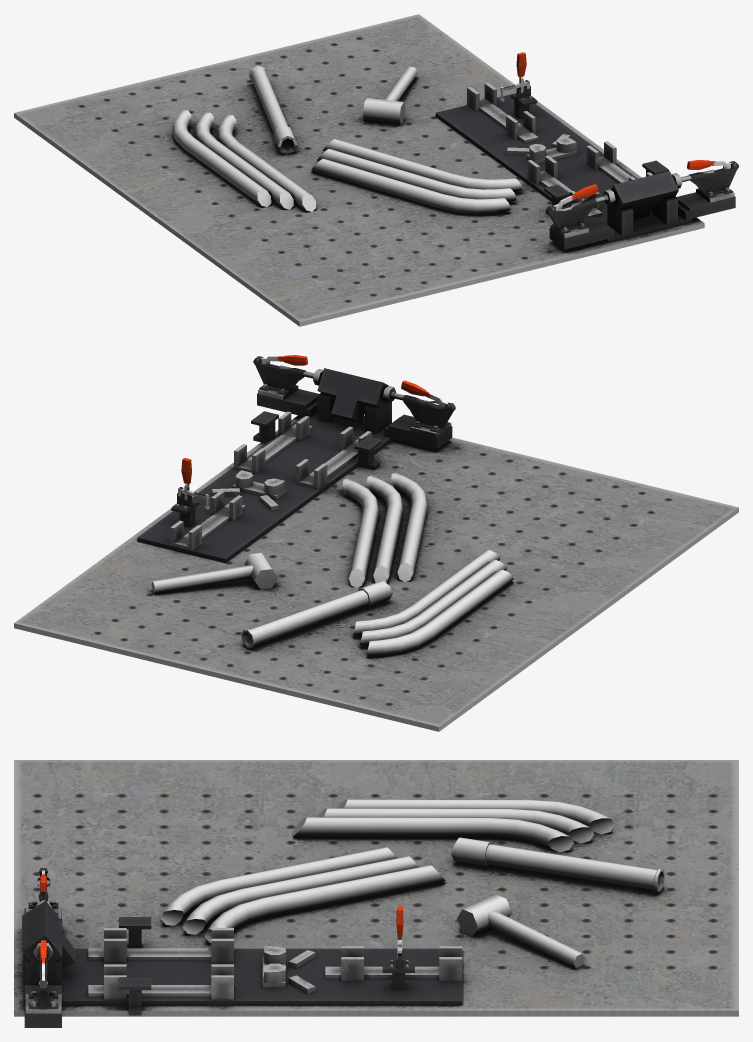
File: Mesa punteadora horquilla.FBX
The picture shows the model from 3 angles, top to bottom: view 1: azimuth 30°, elevation 25°; view 2: azimuth 150°, elevation 25°; view 3: azimuth 270°, elevation 25°; orthographic projection. The views are drawn at different scales.
Visible parts, largest first — view 1: Mesa_agujeros, Base_superior_001, Pata_horquilla_008, Pata_horquilla_010, Pata_horquilla_009, Pata_horquilla_012, Base_superior_lateral_005, Pata_horquilla_011, Pata_horquilla_007, Corrediza_004, Horquilla_centro001, Base_superior_lateral_004 (+7 smaller); view 2: Mesa_agujeros, Base_superior_001, Horquilla_centro001, Pata_horquilla_012, Base_superior_lateral_005, Pata_horquilla_011, Pata_horquilla_007, Pata_horquilla_010, Pata_horquilla_008, Pata_horquilla_009, Corrediza_003, Corrediza_004 (+8 smaller); view 3: Mesa_agujeros, Base_superior_001, Pata_horquilla_007, Horquilla_centro001, Pata_horquilla_010, Pata_horquilla_009, Pata_horquilla_008, Pata_horquilla_011, Pata_horquilla_012, Corrediza_002, Corrediza_003, Corrediza_004 (+8 smaller).
Boxes of the visible parts, x1,y1,x2,y2 form: Mesa_agujeros: (14,14,704,326); Base_superior_001: (435,93,692,242); Pata_horquilla_008: (311,158,510,213); Pata_horquilla_010: (322,139,522,191); Pata_horquilla_009: (317,149,516,201); Pata_horquilla_012: (172,110,271,206); Base_superior_lateral_005: (611,171,678,219); Pata_horquilla_011: (194,112,293,209); Pata_horquilla_007: (217,114,315,211); Corrediza_004: (467,82,538,143); Horquilla_centro001: (249,66,297,153); Base_superior_lateral_004: (607,196,677,235); Mesa_agujeros: (14,415,738,731); Base_superior_001: (137,411,394,562); Horquilla_centro001: (241,581,392,647); Pata_horquilla_012: (366,570,513,655); Base_superior_lateral_005: (317,368,388,423); Pata_horquilla_011: (359,560,506,645); Pata_horquilla_007: (353,550,499,635); Pata_horquilla_010: (342,478,378,588); Pata_horquilla_008: (391,472,427,582); Pata_horquilla_009: (367,475,403,582); Corrediza_003: (234,411,312,474); Corrediza_004: (170,491,245,550); Mesa_agujeros: (14,760,738,1016); Base_superior_001: (62,917,462,1015); Pata_horquilla_007: (292,817,573,852); Horquilla_centro001: (451,837,664,891); Pata_horquilla_010: (204,865,445,942); Pata_horquilla_009: (182,856,419,934); Pata_horquilla_008: (160,847,397,925); Pata_horquilla_011: (317,808,594,843); Pata_horquilla_012: (337,799,614,834); Corrediza_002: (88,928,233,962); Corrediza_003: (88,964,233,999); Corrediza_004: (325,946,462,981).
Size of the model in its own units: 0.9991 by 0.1497 by 1.1.
Materials: 1 (1 with a texture image).
